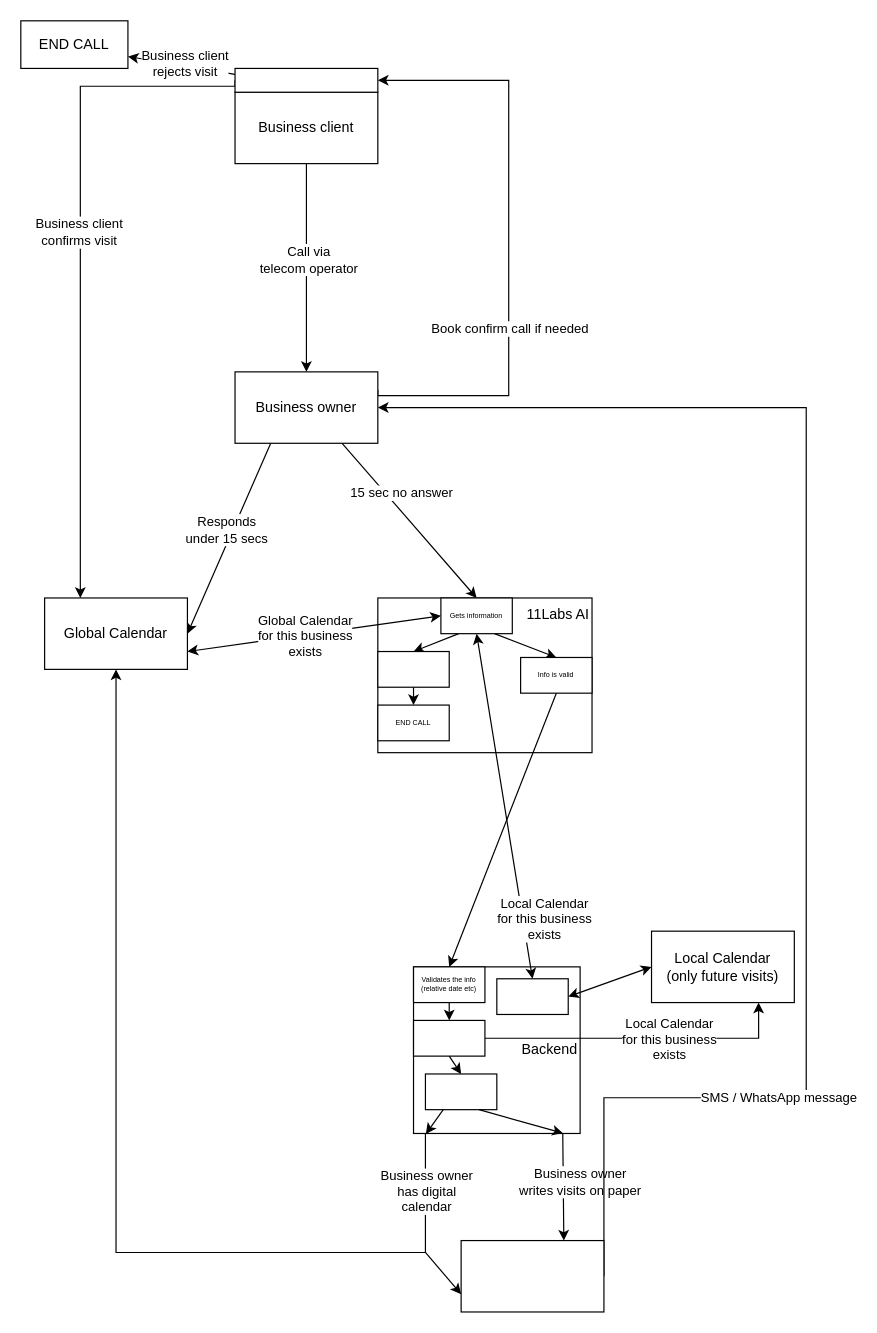
The diagram is 877 pixels wide and 1333 high, and some of its shapes have lost their labels. The box of each missing label's shape, as (x1, y1, x2, y2) in pixels:
Checks Local Calendar: (496, 978, 568, 1014)
Client doesn't pass safety test: (377, 650, 449, 687)
Confirm visit: (234, 67, 378, 92)
Converts info into human-readable message: (412, 1019, 485, 1056)
Sends an API request to Twilio: (424, 1073, 497, 1110)
Twilio: (460, 1239, 604, 1312)
